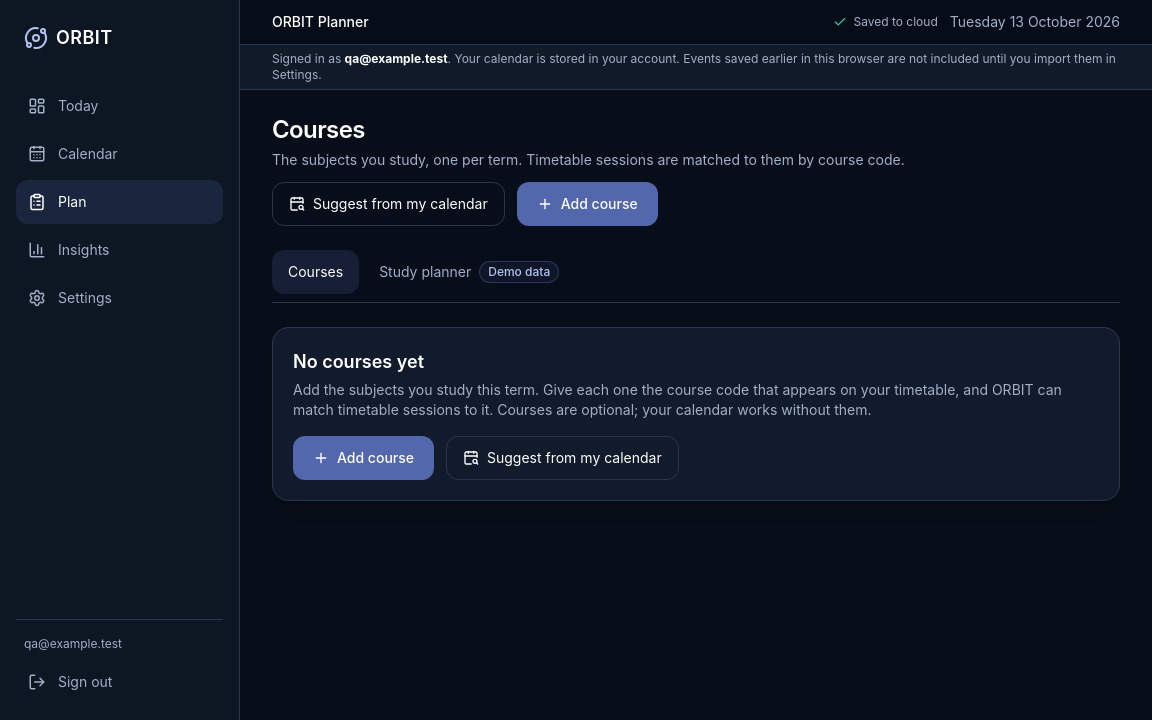
Test case: suggest from my calendar › lists each unresolved code once with count, dates, example and an editable name, and creates nothing by itself
This screenshot has width=1152, height=720.
Expected: the heading "Courses" is shown, [272,115,365,144]
Click the 1st button "Suggest from my calendar" at (388, 204), box [272,182,505,226]
(page scrolled)
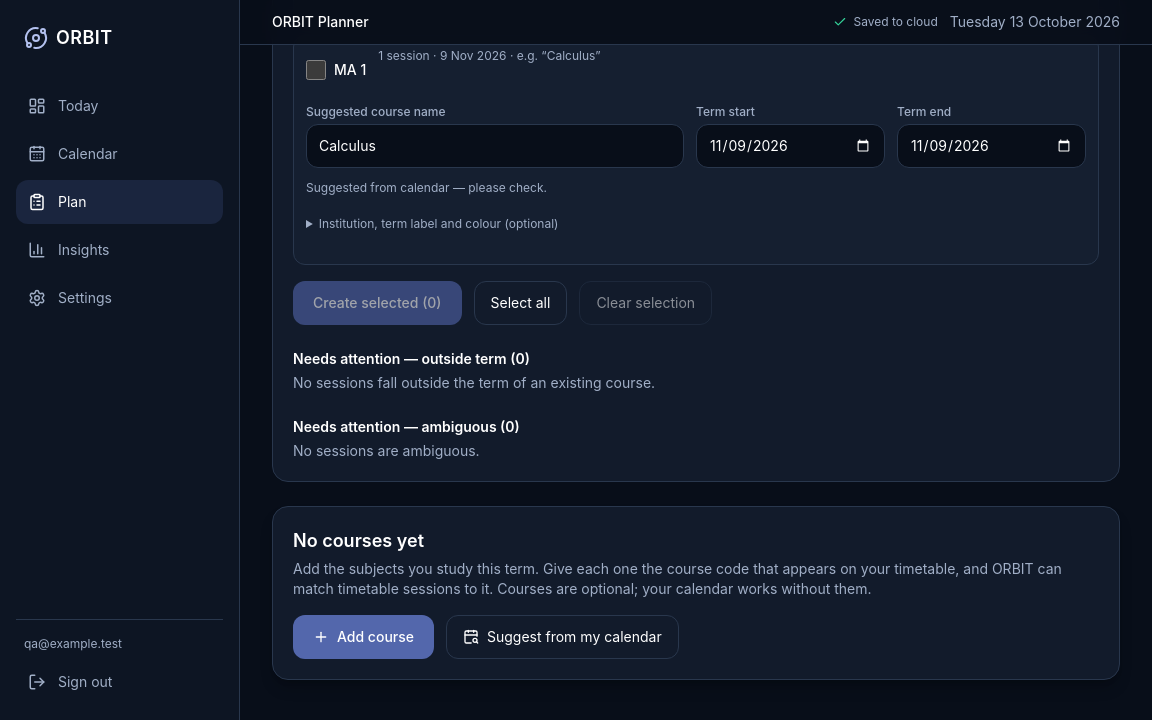
Expected: the list item shows "1 session ·", [293,35,1099,265]
Expected: the heading "Needs attention — outside term (0)" is shown, [293,350,530,367]
Expected: the heading "Needs attention — ambiguous (0)" is shown, [293,418,520,435]
